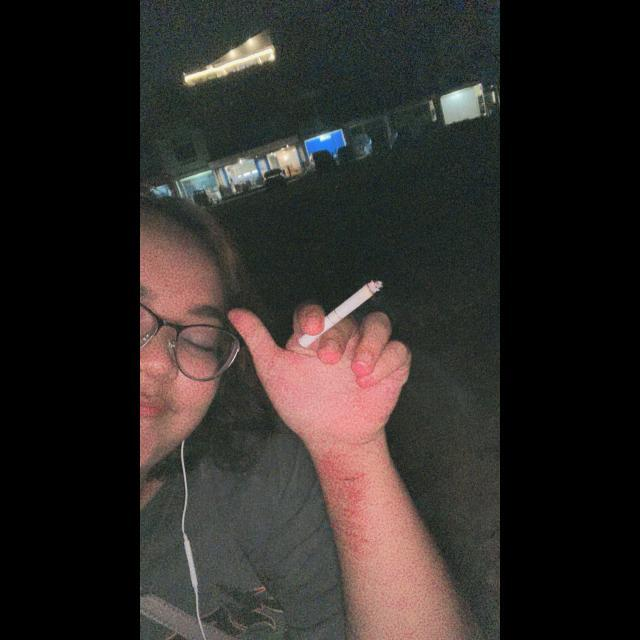rokok: (298, 279, 384, 349)
